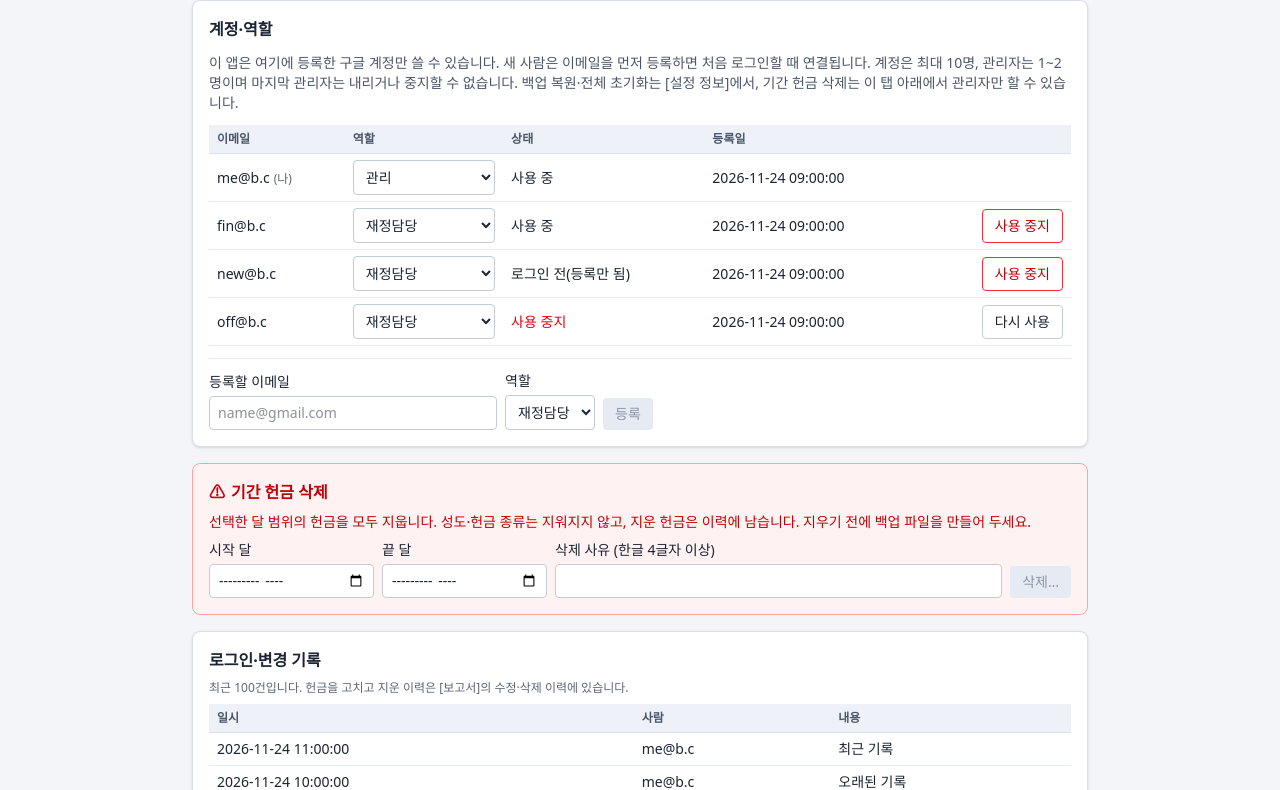
Test: 관리자 탭 › 이메일을 등록하고, main이 거절하면 사유를 보여 준다
This screenshot has width=1280, height=790.
expect the text "fin@b.c" is shown: met, box [209,202,345,250]
Type "x@y.co" into the field labelled "등록할 이메일".
click(353, 413); type("x@y.co")  # box [209,396,497,430]
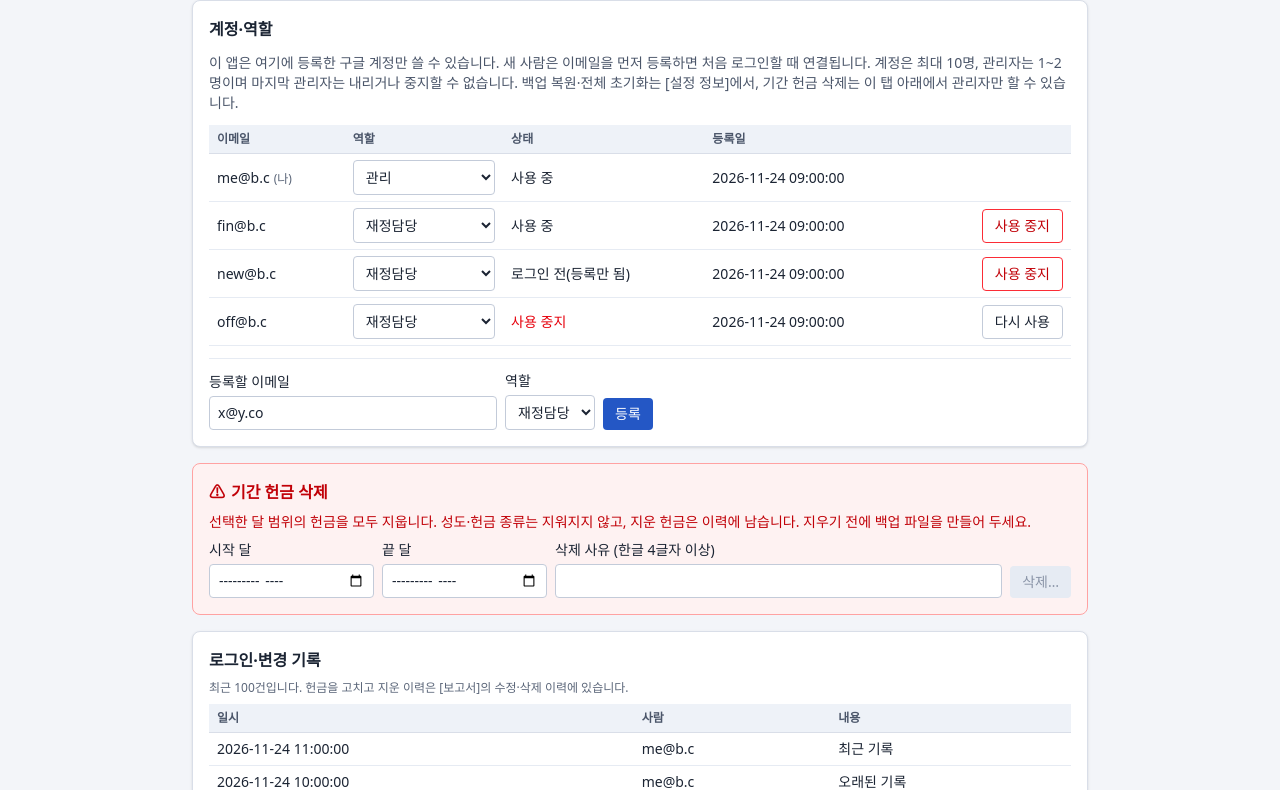
Select "관리" in the dropdown labelled "역할" at {"x": 550, "y": 412}, box [505,395,595,430]
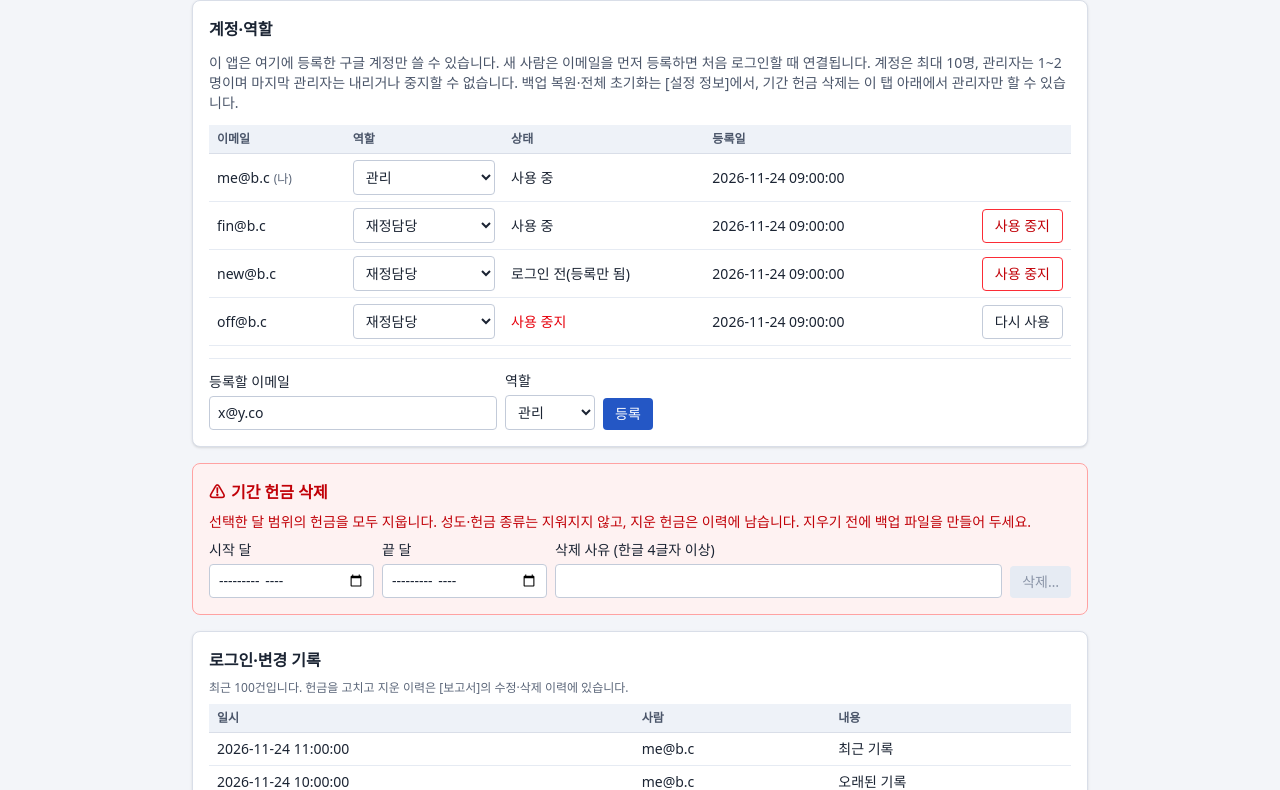
Click the button "등록".
click(628, 414)  # box [603,398,653,430]
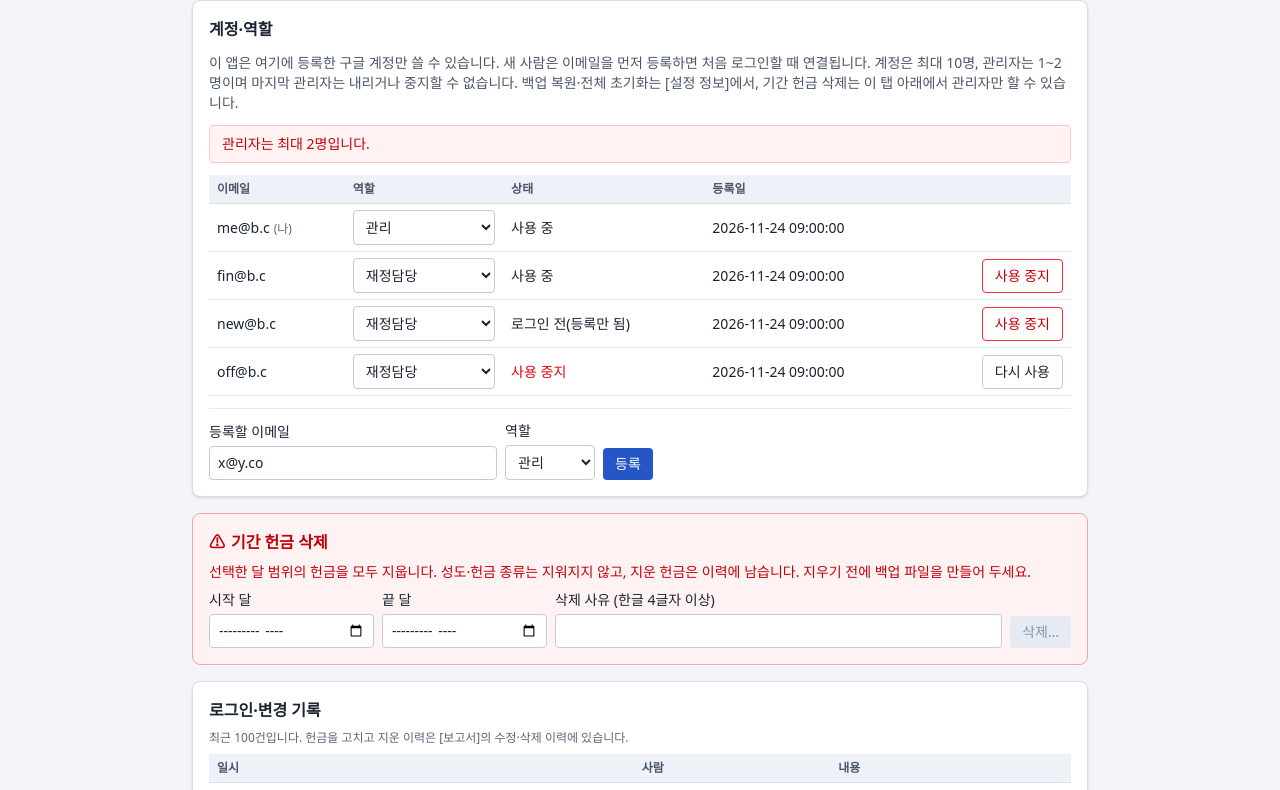
expect the text "관리자는 최대 2명입니다." is shown: met, box [222,134,370,153]
